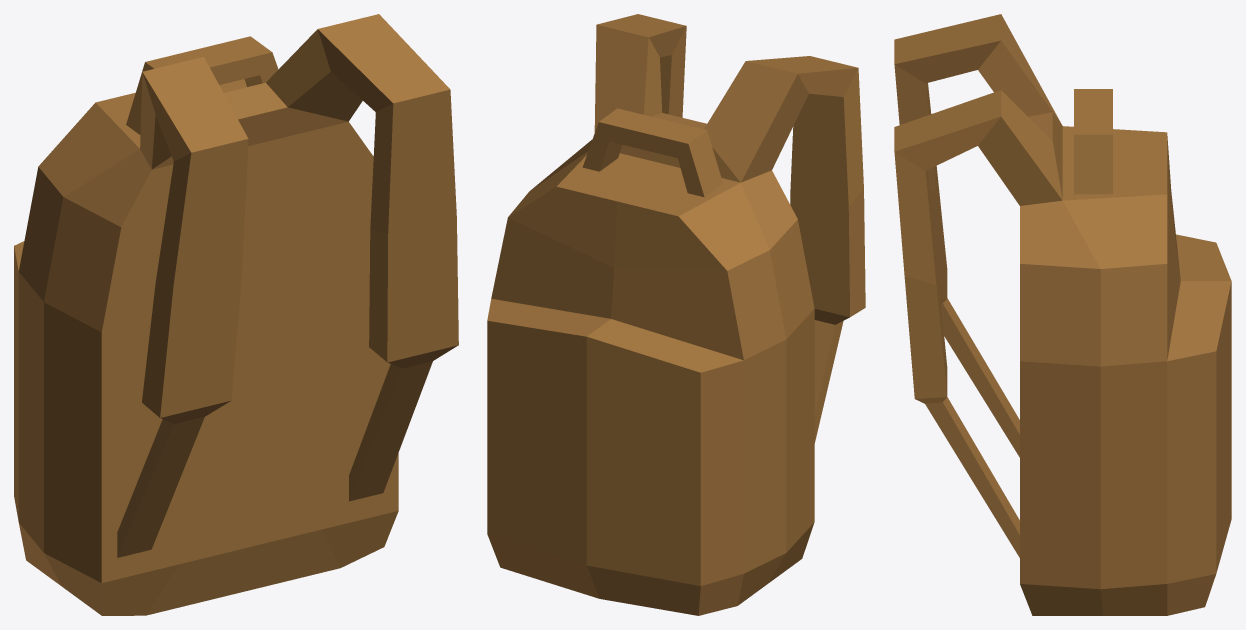
File: bag.glb
The picture shows the model from 3 angles, left to right: view 1: azimuth 30°, elevation 25°; view 2: azimuth 150°, elevation 25°; view 3: azimuth 270°, elevation 25°; orthographic projection. The views are drawn at different scales.
Visible parts, largest first — view 1: bag; view 2: bag; view 3: bag.
Part boxes in pixels (left/top/right/bottom): bag: left=14, top=14, right=458, bottom=615; bag: left=487, top=14, right=865, bottom=615; bag: left=894, top=14, right=1231, bottom=615.
Size of the model in its own units: 0.3357 by 0.5602 by 0.3431.
Materials: 1 (1 with a texture image).
